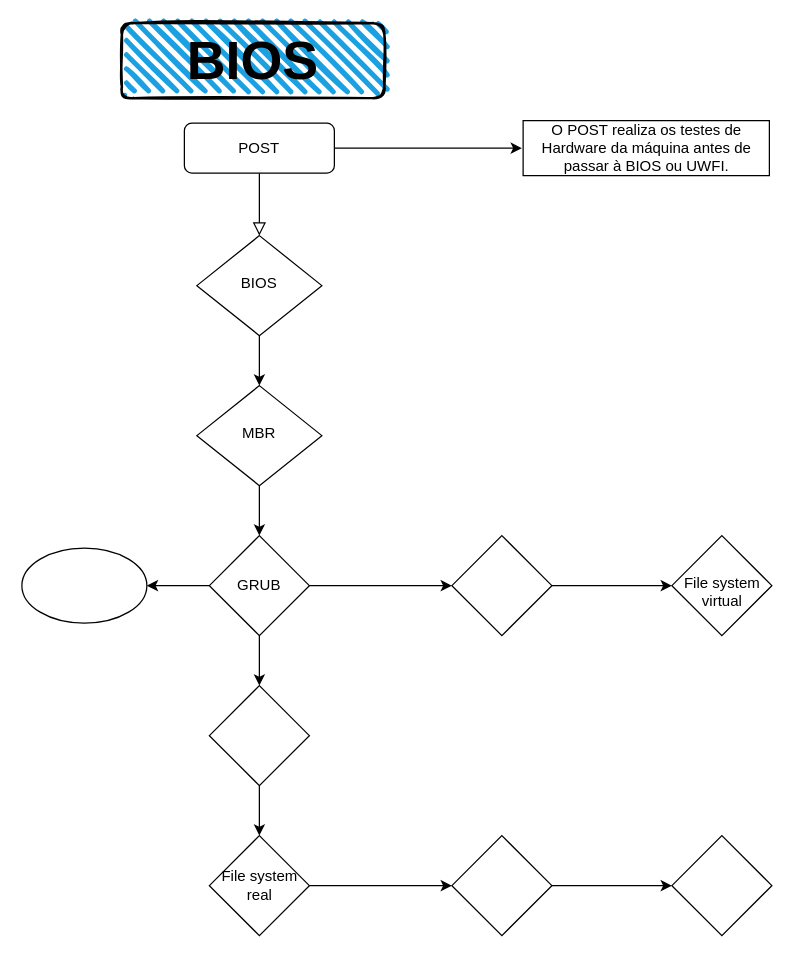
The diagram is 794 pixels wide and 958 high, and some of its shapes have lost their labels. Each missing label, with the centre of its shape:
initrd: point (501, 585)
Kernel: point (258, 735)
Módulos GRUB: point (84, 585)
